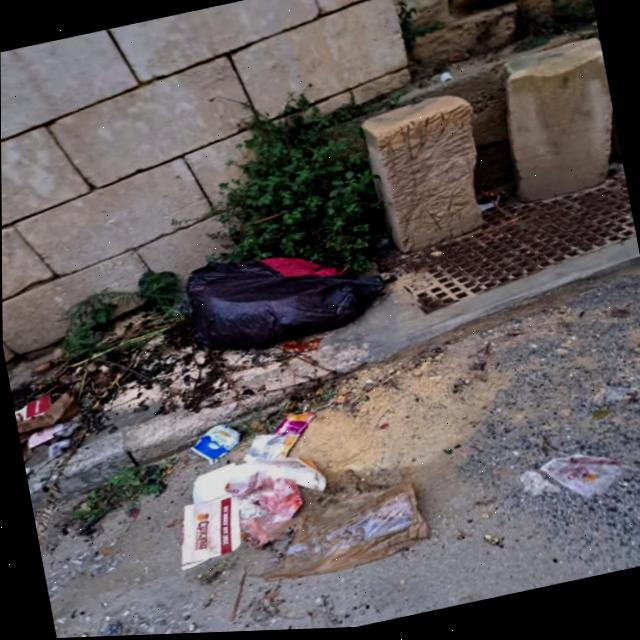Mixed Waste -Black Bag-: (176, 228, 396, 362)
Other: (150, 401, 342, 581), (243, 478, 434, 596), (535, 451, 627, 514), (12, 391, 69, 431)
